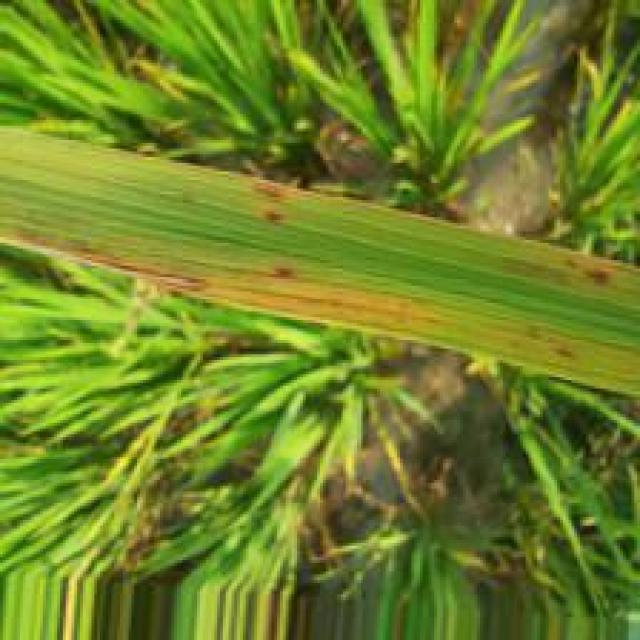Brown_Spot: (62, 238, 215, 297), (245, 176, 298, 203), (546, 339, 591, 368), (581, 260, 616, 294), (257, 203, 290, 230), (270, 262, 298, 286)
